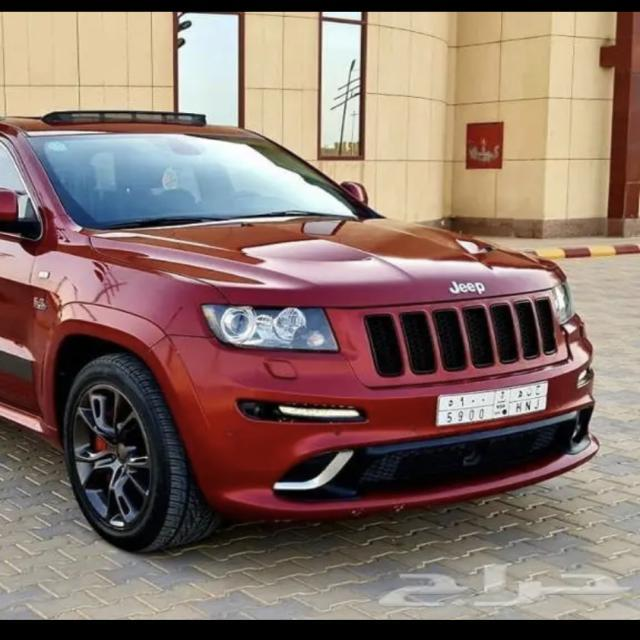license_plate: (436, 386, 553, 432)
